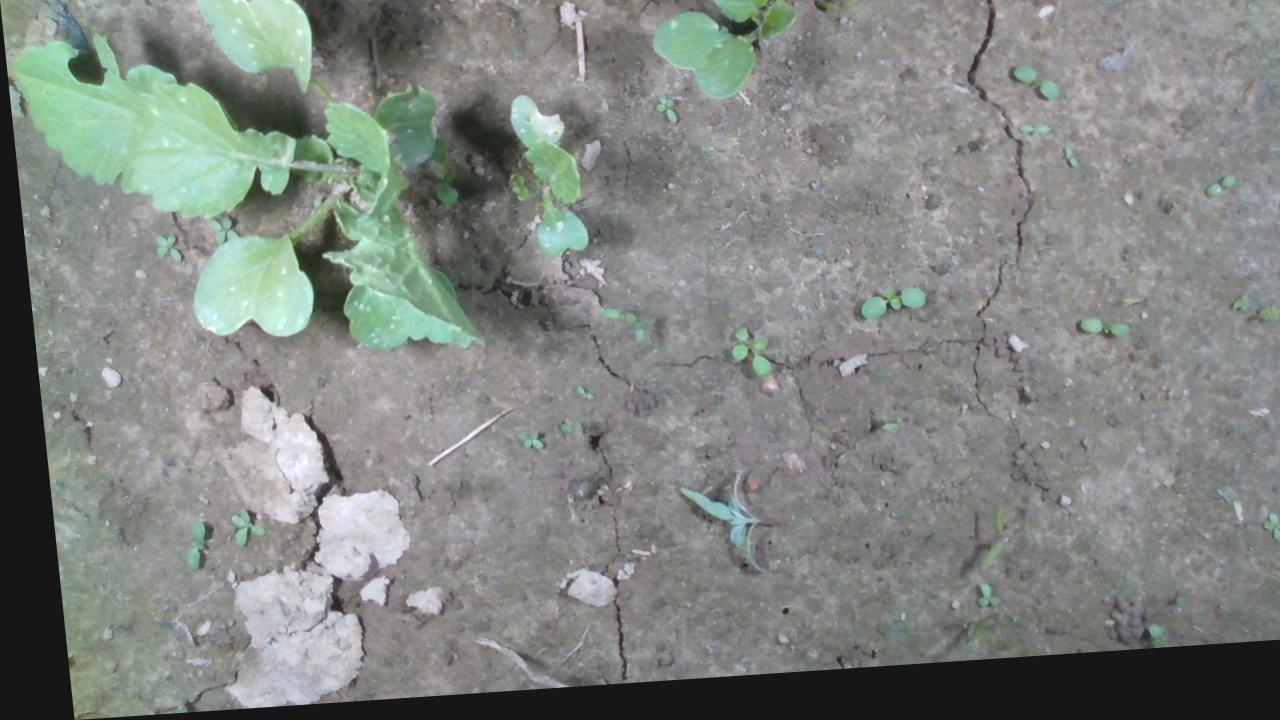weed: (847, 291, 921, 333), (958, 514, 997, 583), (717, 333, 765, 389), (1007, 74, 1056, 117), (215, 506, 255, 549), (169, 519, 198, 573), (1067, 328, 1121, 355), (1242, 527, 1277, 558), (648, 100, 676, 136), (145, 234, 176, 266), (504, 431, 533, 459), (1195, 191, 1232, 212), (959, 593, 986, 619), (1011, 134, 1047, 151), (1057, 155, 1071, 182)
